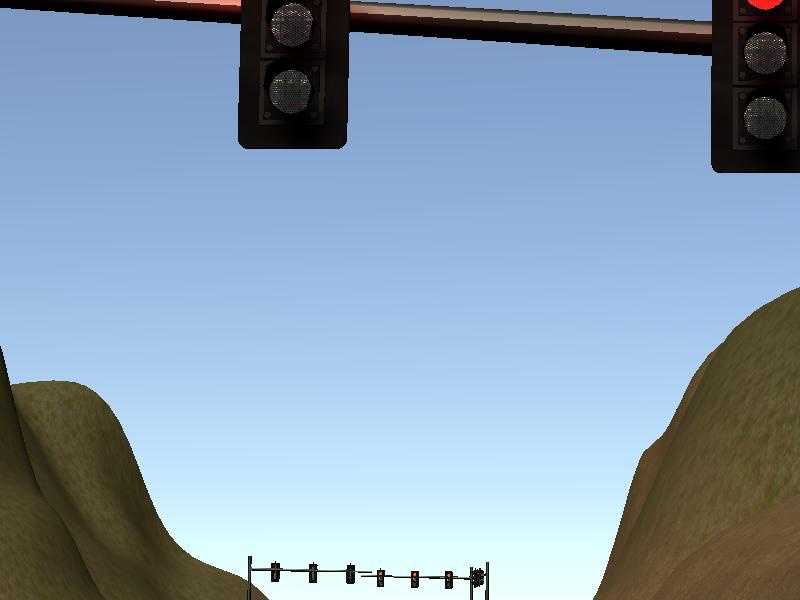Red: (374, 568, 387, 590), (409, 568, 420, 591), (444, 569, 454, 591)
